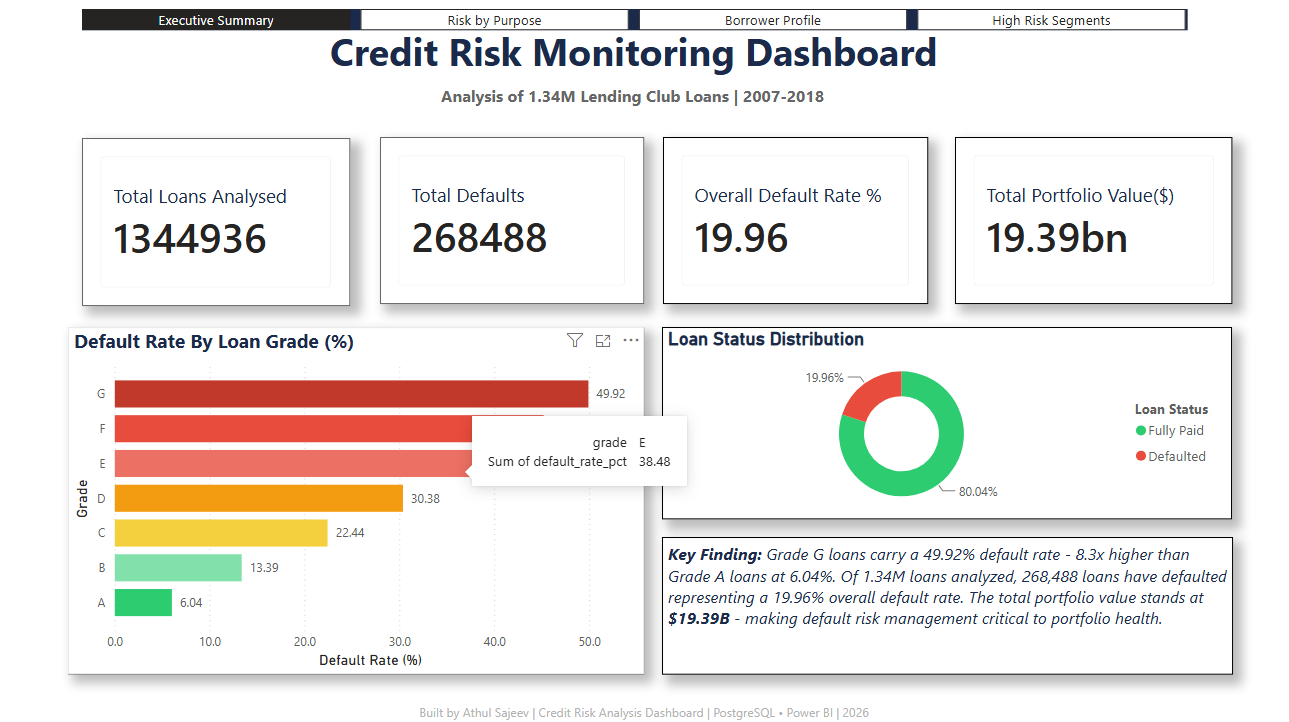

Layout of this report page (visuals, bound fields, positions):
{"tool":"powerbi","page":{"name":"Executive Summary","canvas":[1280,720],"ordinal":0},"visuals":[{"type":"textbox","box":[324.9,21.4,630.3,88.5],"z":0},{"type":"textbox","box":[434.8,80.7,410.5,37.9],"z":1000},{"type":"cardVisual","fields":{"Data":["Sum(query1_overall_default.total_loans)"]},"box":[84.6,138.1,264.6,166.3],"z":2000},{"type":"cardVisual","fields":{"Data":["Sum(query1_overall_default.total_defaults)"]},"box":[379.3,137.1,260.7,165.3],"z":3000},{"type":"cardVisual","fields":{"Data":["Sum(query1_overall_default.default_rate_pct)"]},"box":[658.5,137.1,261.6,165.3],"z":4000},{"type":"cardVisual","fields":{"Data":["Sum(query1_overall_default.total_portfolio_value)"]},"box":[947.4,137.1,274.3,165.3],"z":5000},{"type":"clusteredBarChart","title":"Default Rate By Loan Grade (%)","fields":{"Y":["Sum(query2_default_by_grade.default_rate_pct)"],"Category":["query2_default_by_grade.grade"]},"box":[71,341.4,569,342.4],"z":6000},{"type":"textbox","box":[658.5,547.6,563.2,136.2],"z":7000},{"type":"donutChart","title":"Loan Status Distribution","fields":{"Category":["loan_status_split.Loan Status"],"Y":["Sum(loan_status_split.Count)"]},"box":[657.5,341.4,563.2,189.7],"z":8000},{"type":"pageNavigator","box":[84.6,10.7,1092.3,21.4],"z":9000},{"type":"textbox","box":[0,691.6,1280,28.2],"z":10000}]}

Visuals, with their boxes in screenshot pixels (x1, y1, x2, y2), scaled from the page's 1280x720 canvas onto the 1289x722 screenshot:
textbox: {"left": 327, "top": 21, "right": 962, "bottom": 110}
textbox: {"left": 438, "top": 81, "right": 851, "bottom": 119}
cardVisual - Sum(query1_overall_default.total_loans): {"left": 85, "top": 138, "right": 352, "bottom": 305}
cardVisual - Sum(query1_overall_default.total_defaults): {"left": 382, "top": 137, "right": 644, "bottom": 303}
cardVisual - Sum(query1_overall_default.default_rate_pct): {"left": 663, "top": 137, "right": 927, "bottom": 303}
cardVisual - Sum(query1_overall_default.total_portfolio_value): {"left": 954, "top": 137, "right": 1230, "bottom": 303}
"Default Rate By Loan Grade (%)" clusteredBarChart: {"left": 71, "top": 342, "right": 644, "bottom": 686}
textbox: {"left": 663, "top": 549, "right": 1230, "bottom": 686}
"Loan Status Distribution" donutChart: {"left": 662, "top": 342, "right": 1229, "bottom": 533}
pageNavigator: {"left": 85, "top": 11, "right": 1185, "bottom": 32}
textbox: {"left": 0, "top": 694, "right": 1288, "bottom": 721}
